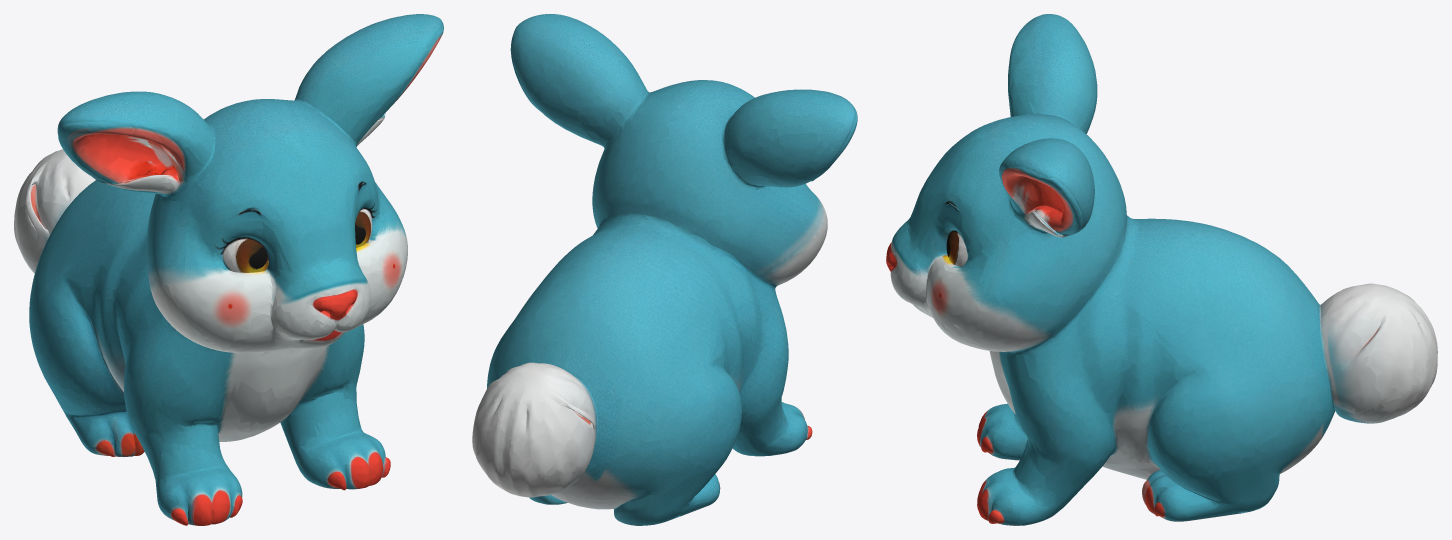
File: meshy-1795544072600.glb
3 views of the same model, side by side, from view 1: azimuth 30°, elevation 25°; view 2: azimuth 150°, elevation 25°; view 3: azimuth 270°, elevation 25° (orthographic). The views are drawn at different scales.
Bounding box in the file's own units: 1.41 × 1.51 × 1.9.
Materials: 1 (1 with a texture image).
